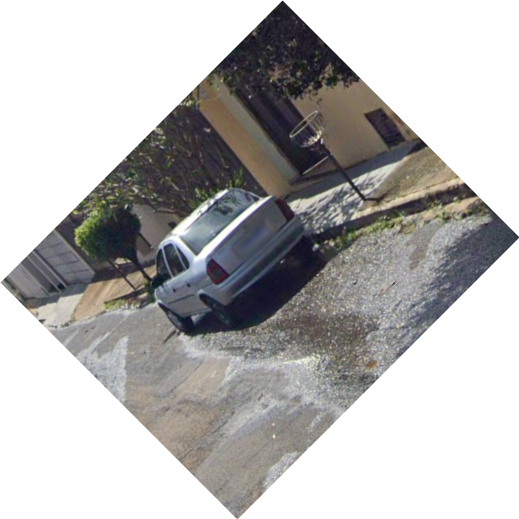car: (148, 183, 318, 337)
